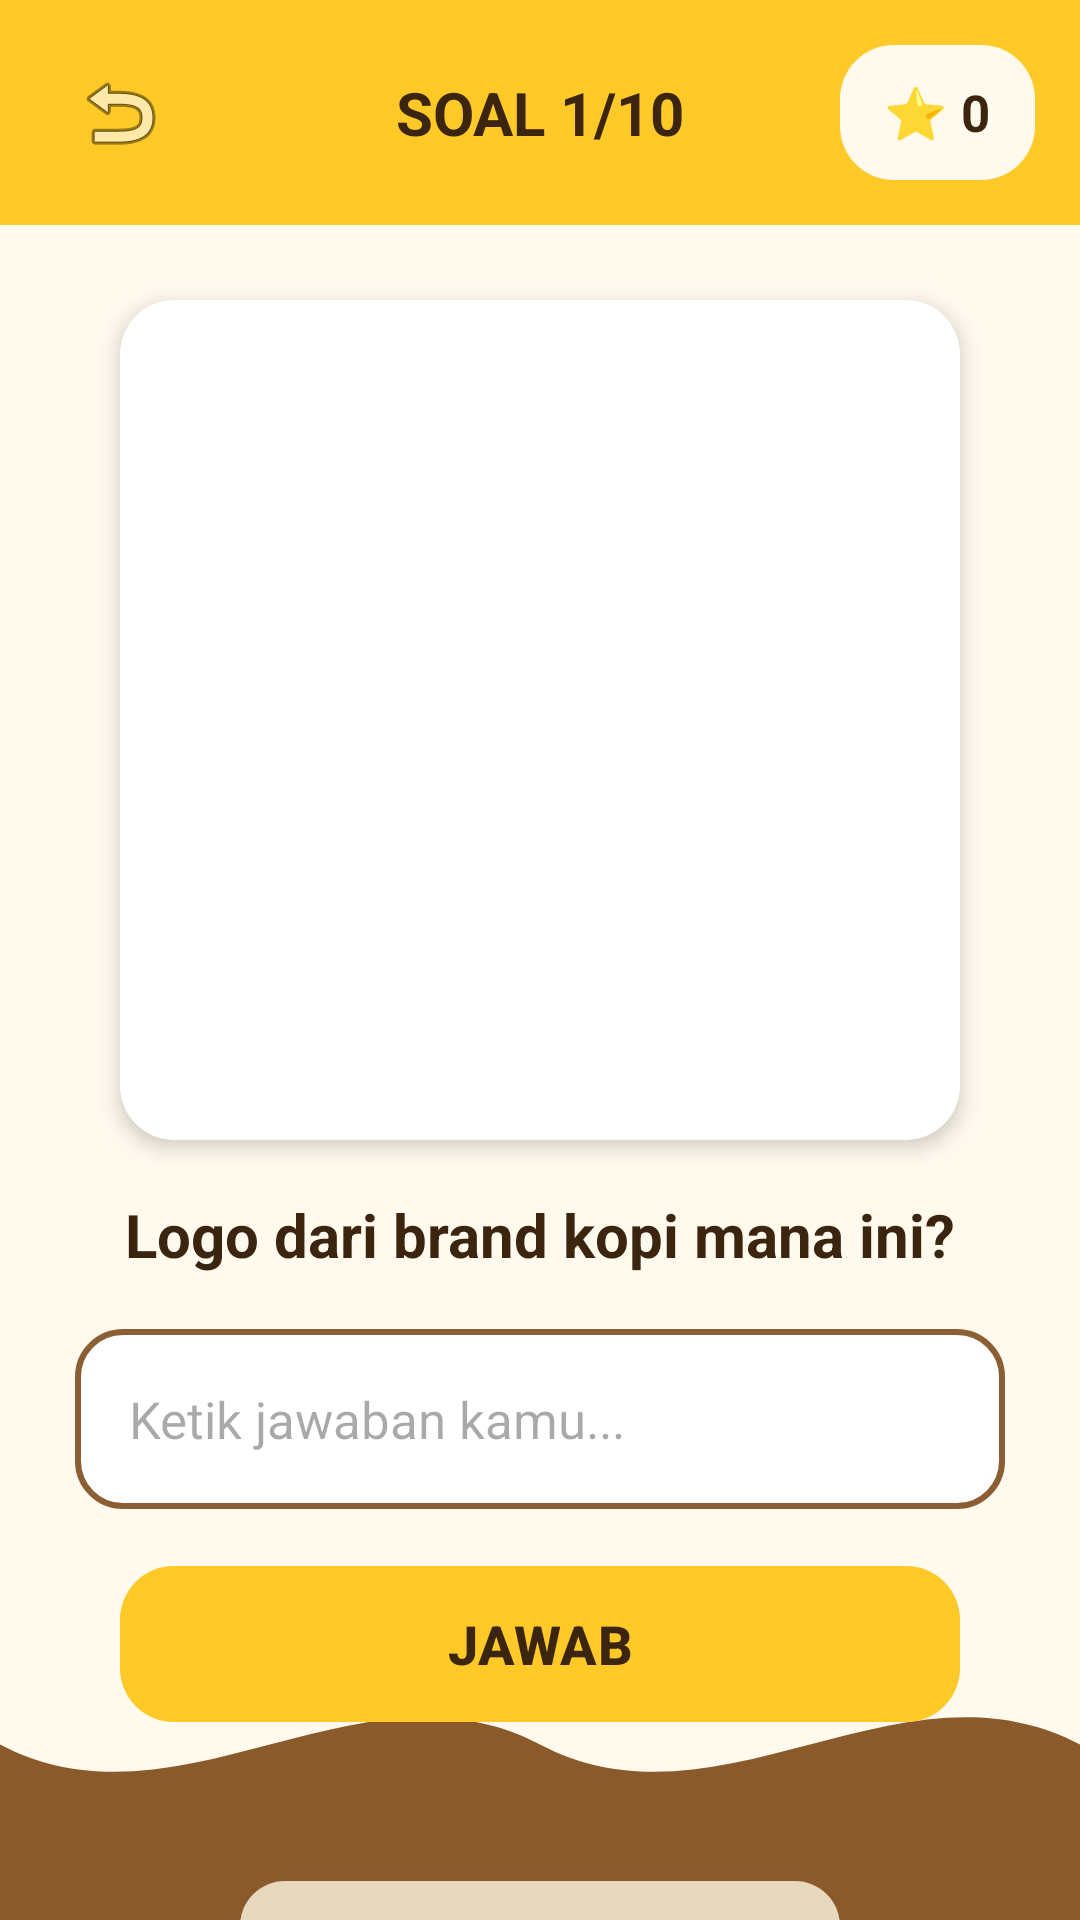

Icon bounding boxes for this 1080px×1920px phone screenshot, format {"x1": x1, "y1": y1, "x2": x2, "y2": y2}:
Kembali: {"x1": 87, "y1": 82, "x2": 156, "y2": 145}
